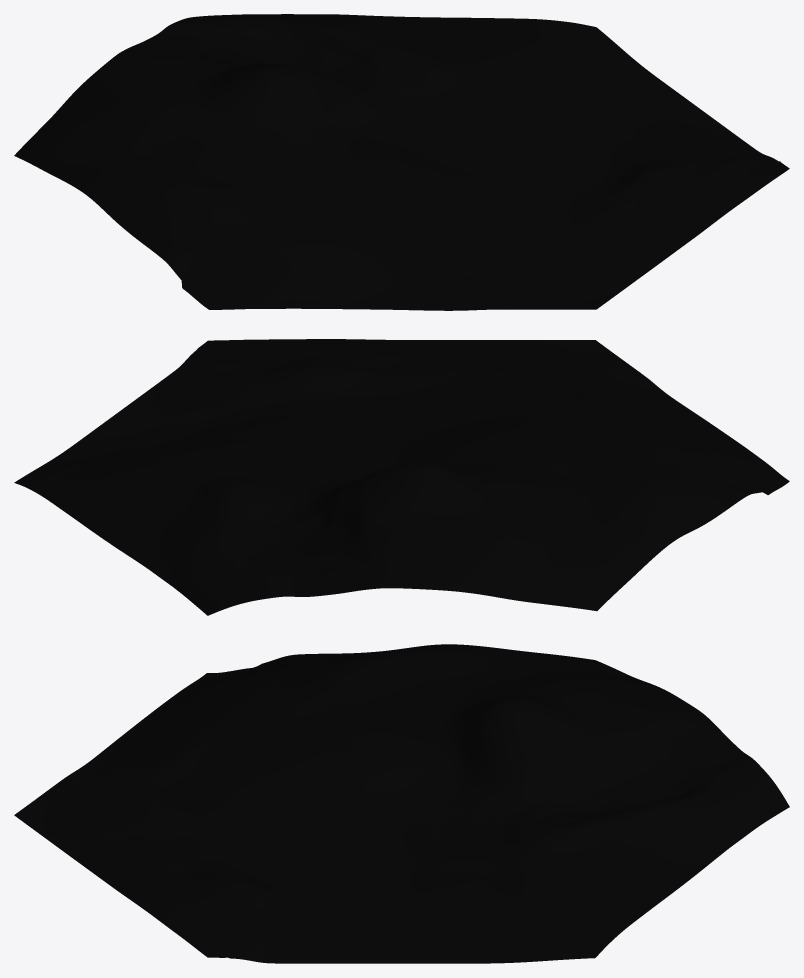
File: costal.glb
3 views of the same model, one above another, from view 1: azimuth 30°, elevation 25°; view 2: azimuth 150°, elevation 25°; view 3: azimuth 270°, elevation 25° (orthographic).
Visible parts, largest first — view 1: Circle; view 2: Circle; view 3: Circle.
Boxes of the visible parts, <box> form: Circle: <box>14,14,789,310</box>; Circle: <box>14,339,789,615</box>; Circle: <box>14,644,789,963</box>.
Size of the model in its own units: 348 by 45.59 by 401.
1 material, 1 textured.
